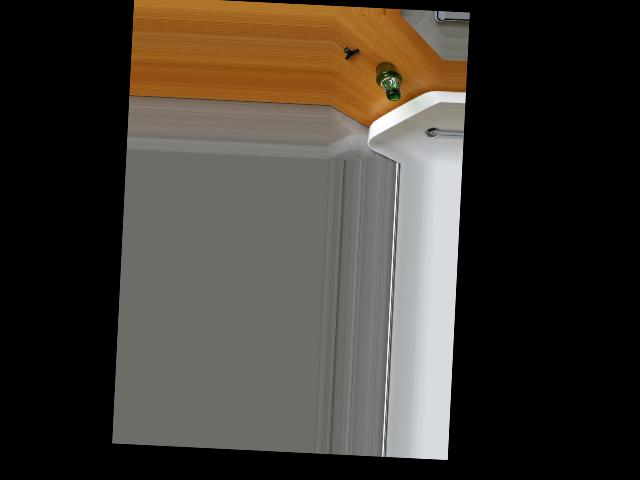beer: (375, 60, 402, 100)
